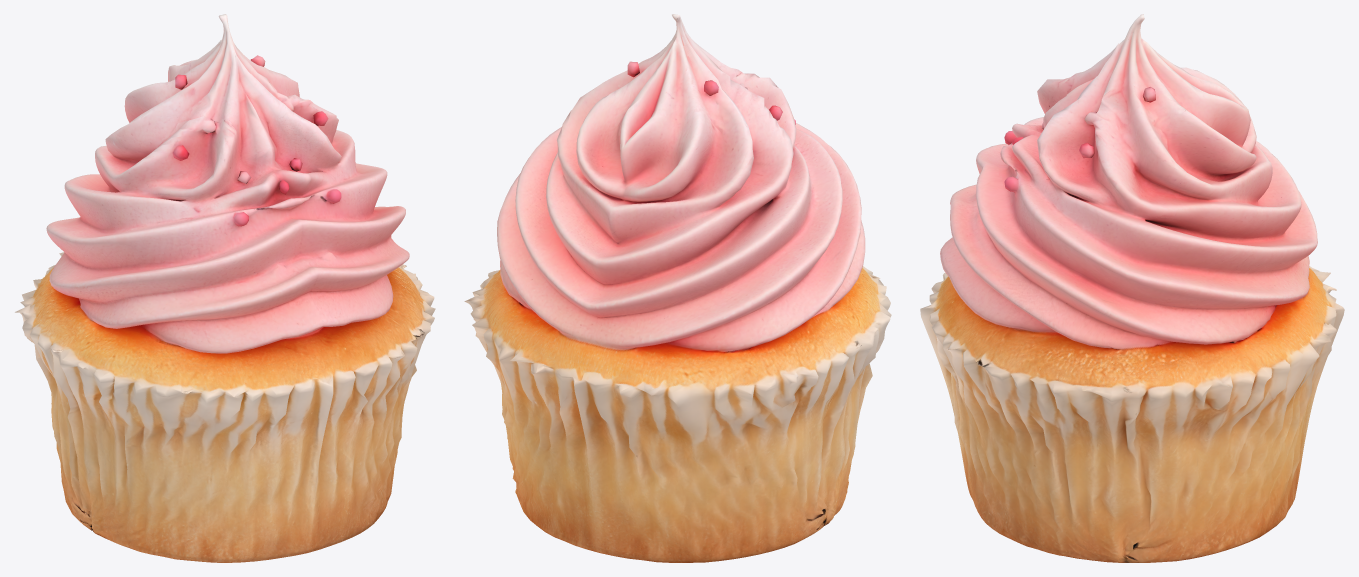
The model's file is strawcup.glb.
3 views of the same model, side by side, from view 1: azimuth 30°, elevation 25°; view 2: azimuth 150°, elevation 25°; view 3: azimuth 270°, elevation 25° (orthographic).
Visible parts, largest first — view 1: model; view 2: model; view 3: model.
Boxes of the visible parts, x1,y1,x2,y2 form: model: (15, 14, 435, 562); model: (464, 14, 891, 562); model: (920, 14, 1344, 562).
Bounding box in the file's own units: 0.7827 × 1 × 0.8001.
Materials: 1 (1 with a texture image).
